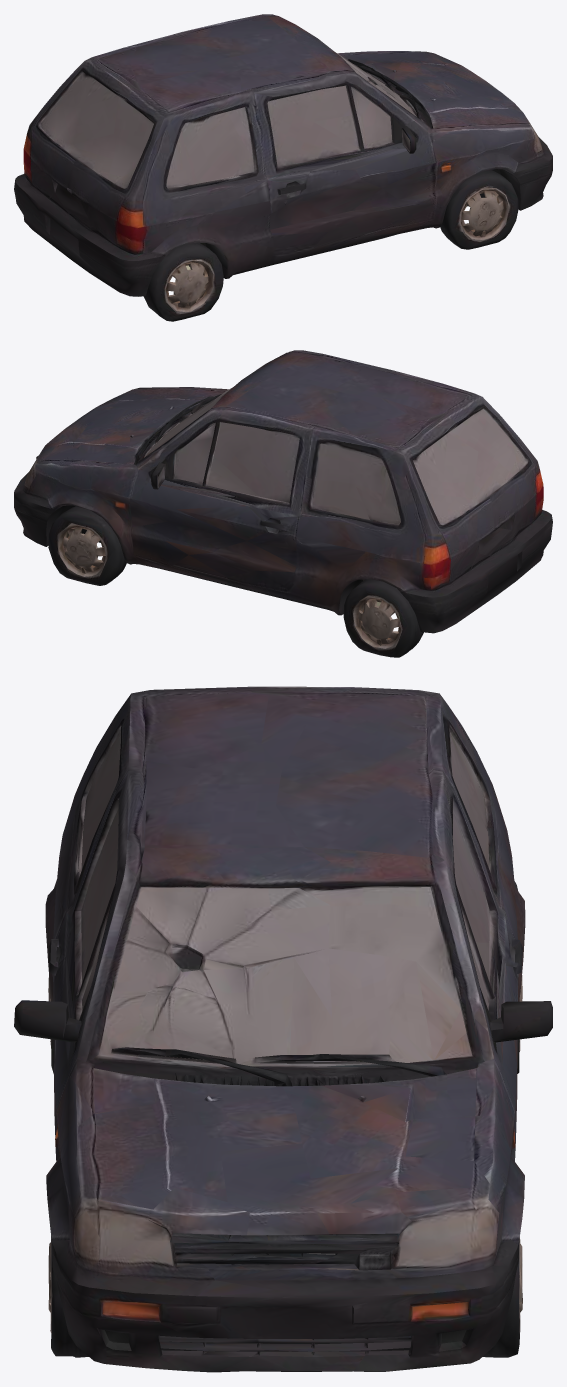
The model's file is car_hatchback_idle.glb.
3 renders of one model, top to bottom at view 1: azimuth 30°, elevation 25°; view 2: azimuth 150°, elevation 25°; view 3: azimuth 270°, elevation 25°, orthographic. The views are drawn at different scales.
Visible parts, largest first — view 1: tripo_node_9c9d0da2-43bc-4248-8d20-e65306b2e81a; view 2: tripo_node_9c9d0da2-43bc-4248-8d20-e65306b2e81a; view 3: tripo_node_9c9d0da2-43bc-4248-8d20-e65306b2e81a.
Boxes of the visible parts, bbox=[...] form: tripo_node_9c9d0da2-43bc-4248-8d20-e65306b2e81a: bbox=[14, 14, 552, 321]; tripo_node_9c9d0da2-43bc-4248-8d20-e65306b2e81a: bbox=[14, 350, 552, 657]; tripo_node_9c9d0da2-43bc-4248-8d20-e65306b2e81a: bbox=[14, 686, 552, 1372].
Size of the model in its own units: 4 by 1.67 by 2.12.
1 material, 1 textured.
